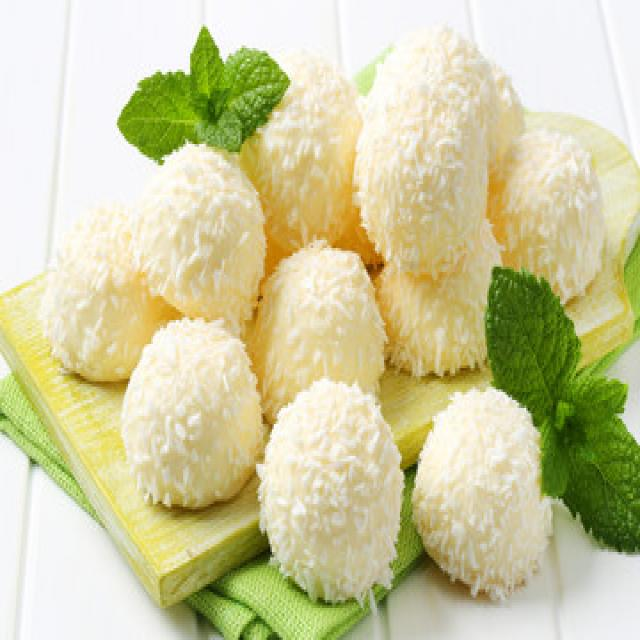Chocolate: (58, 31, 599, 593), (260, 375, 405, 613), (354, 64, 494, 278), (122, 314, 264, 511), (130, 132, 266, 334)
